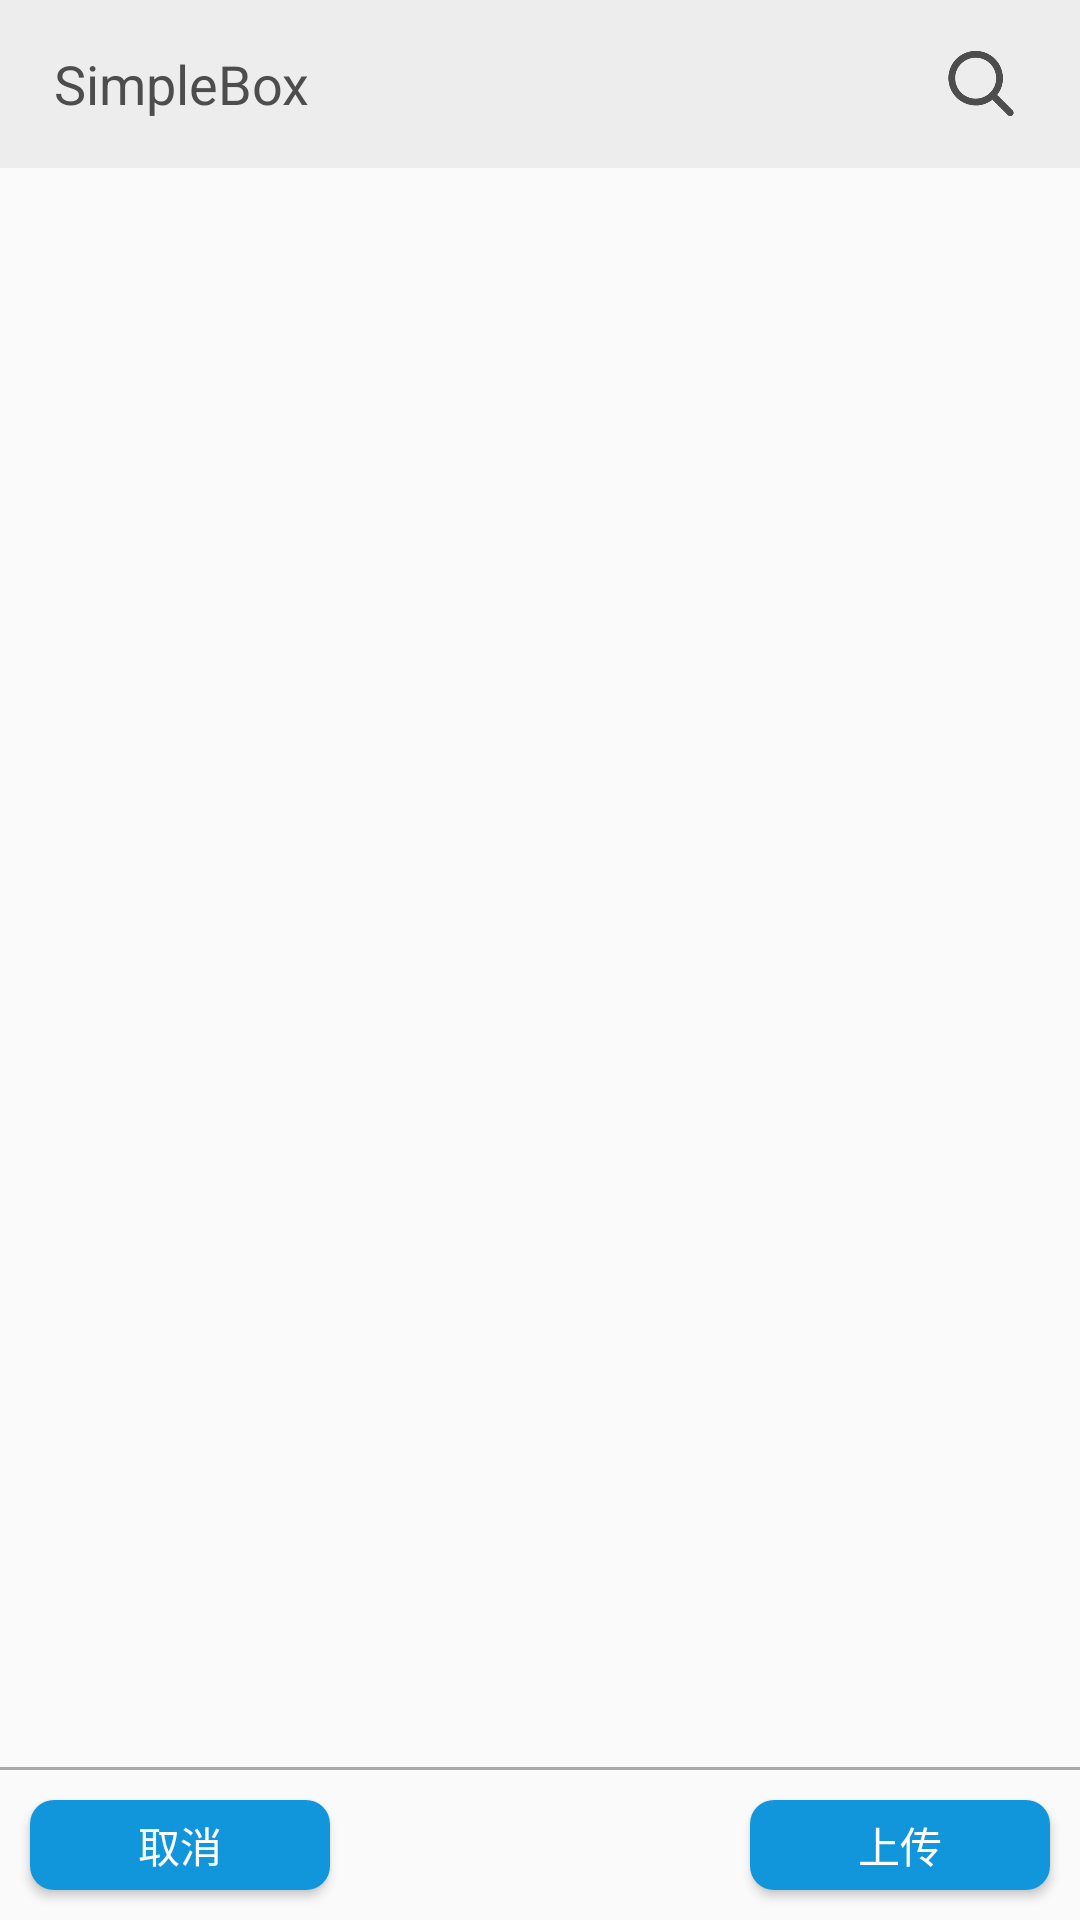

Named icons in this screenshot (1080px x 1920px) and their bounding boxes, (x1, y1, x2, y2):
find: (948, 51, 1014, 116)
